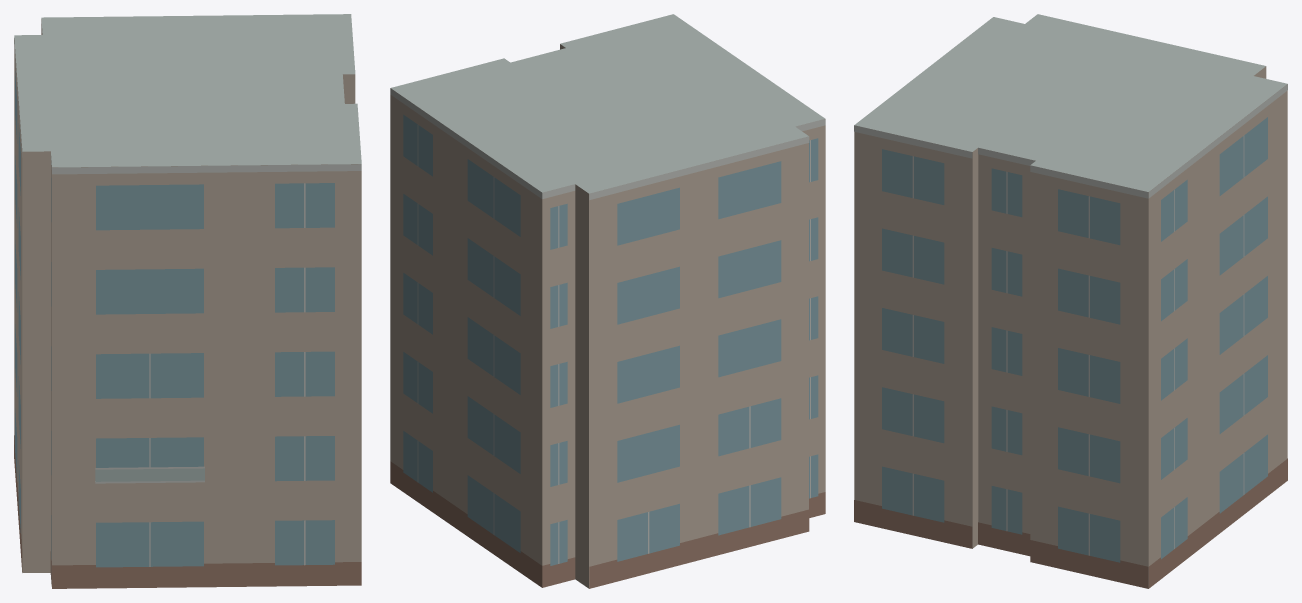
The model's file is survey-upis-32870069.glb.
3 views of the same model, side by side, from view 1: azimuth 30°, elevation 25°; view 2: azimuth 150°, elevation 25°; view 3: azimuth 270°, elevation 25° (orthographic). The views are drawn at different scales.
Visible parts, largest first — view 1: survey-upis-32870069.tmp; view 2: survey-upis-32870069.tmp; view 3: survey-upis-32870069.tmp.
Part boxes in pixels (box(x1,y1,x2,y2)): survey-upis-32870069.tmp: box(14, 14, 361, 588); survey-upis-32870069.tmp: box(390, 14, 825, 588); survey-upis-32870069.tmp: box(854, 14, 1287, 588).
Size of the model in its own units: 14.16 by 14.7 by 14.57.
